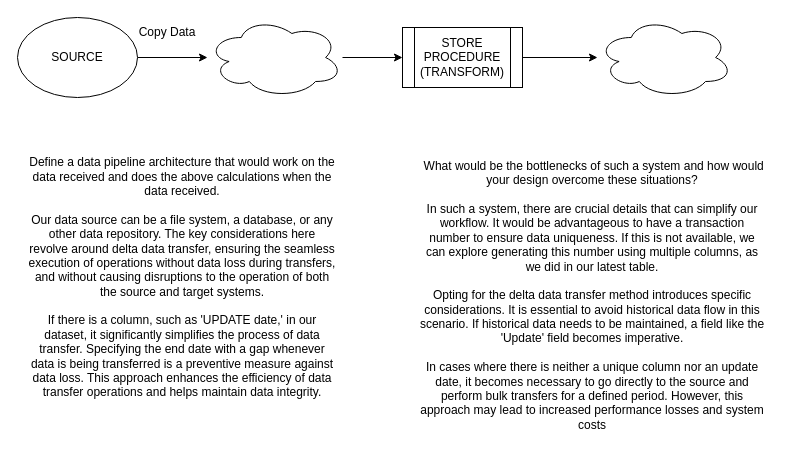
The diagram is 785 pixels wide and 460 high, and some of its shapes have lost their labels. The centre of each missing label's shape, as x and y in pixels:
"SINK TABLE (DWH)" belongs at (664,57).
"SINK TABLE (ODS)" belongs at (274,57).
